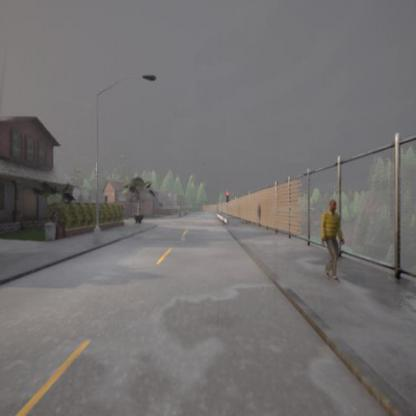person: (320, 199, 344, 282)
